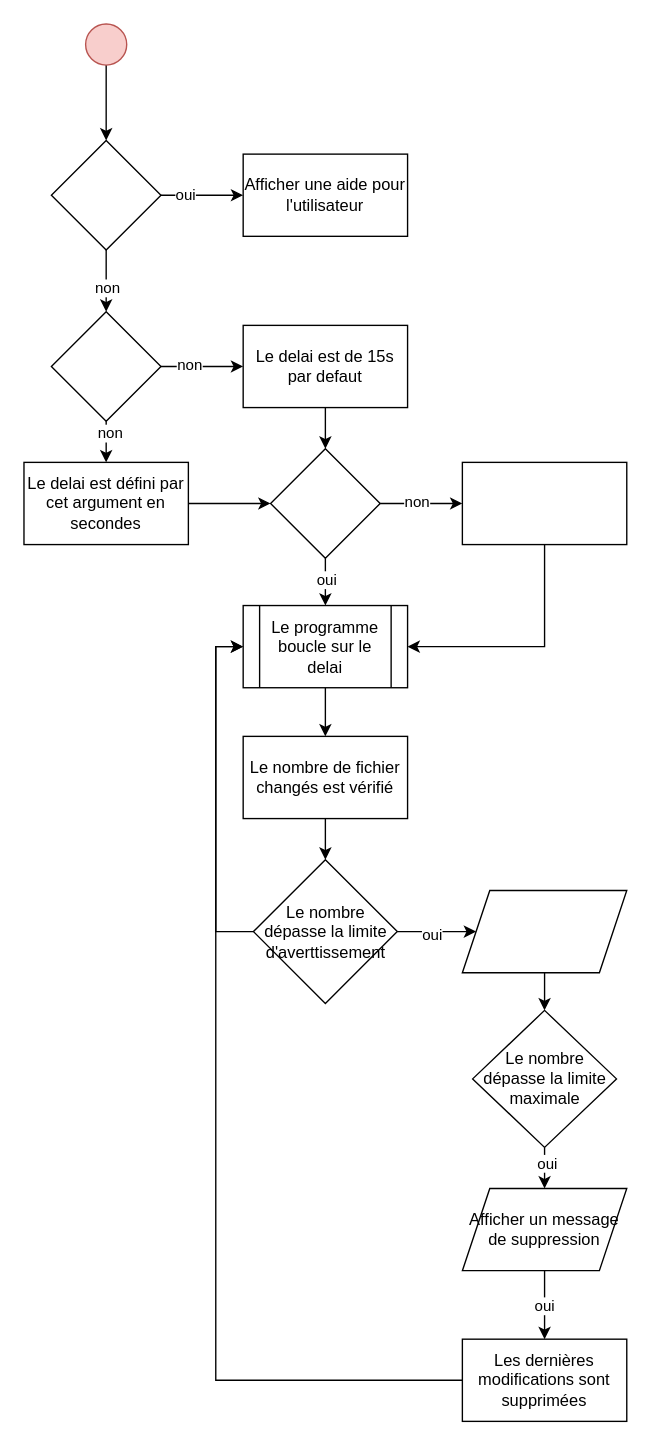
Some shapes in this 651 by 1445 pixel diagram are drawn without their labels. Here are the shapes that lost their labels. From the top down, the centre of each, then its label:
At pixel 105 194: "L'argument est -h".
At pixel 105 365: "Un argument est foruni".
At pixel 324 502: "Le script est dans le gitignore".
At pixel 544 503: "Le script est ajouté au gitignore et poussé".
At pixel 544 931: "Afficher une alerte".
